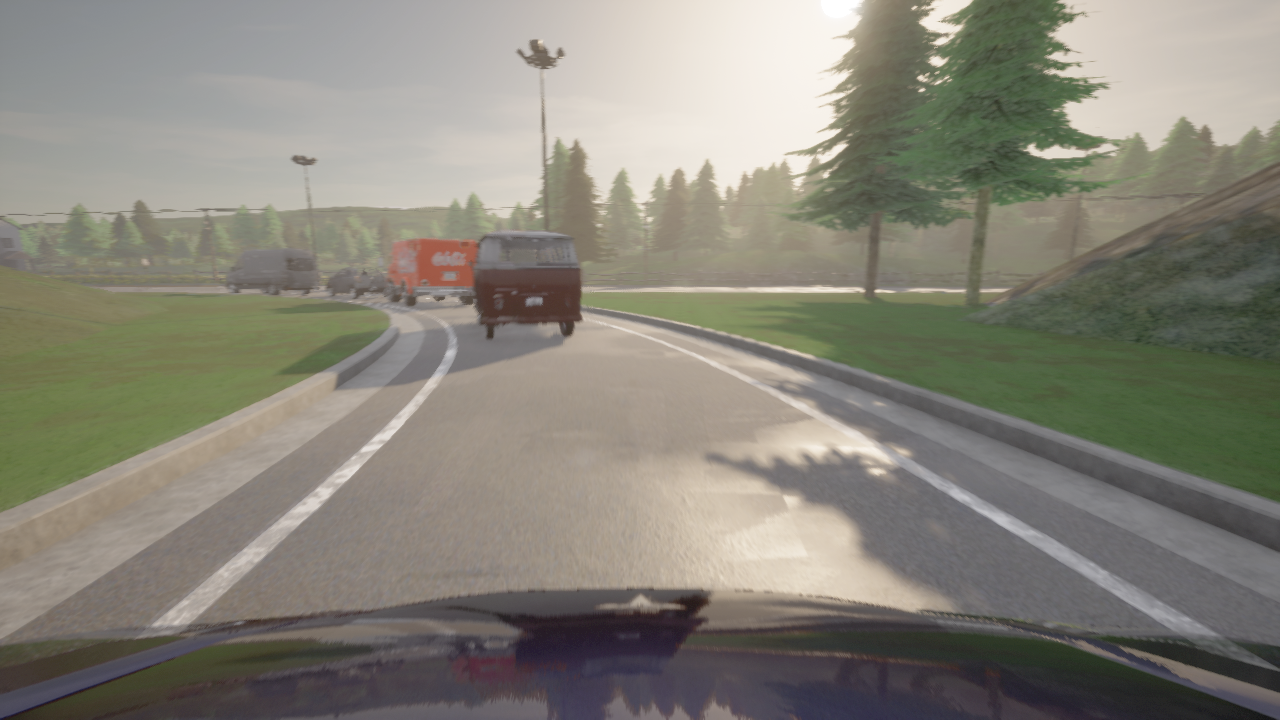cyclist: (0, 588, 1279, 719), (468, 230, 581, 339), (377, 238, 476, 306), (225, 248, 318, 295), (326, 267, 386, 298)
